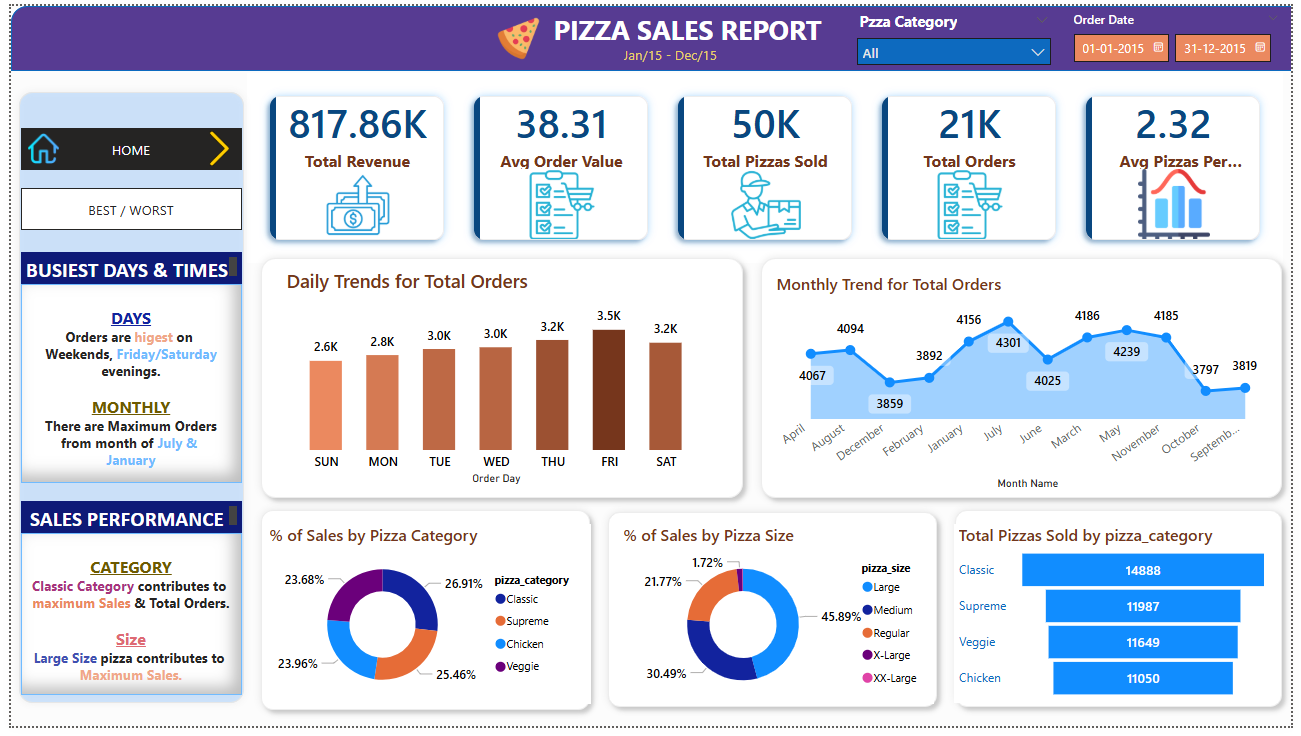

Layout of this report page (visuals, bound fields, positions):
{"tool":"powerbi","page":{"name":"HOME","canvas":[1280,720],"ordinal":0},"visuals":[{"type":"cardVisual","fields":{"Data":["pizza_sales.Total Revenue","pizza_sales.Avg Order Value","pizza_sales.Total Pizzas Sold","pizza_sales.Total Orders","pizza_sales.Avg Pizzas Per Order"]},"box":[231,62,1049,200],"z":0},{"type":"shape","box":[0,0,1482.6,65.3],"z":1000},{"type":"textbox","box":[537.7,0,319.2,57.1],"z":2000},{"type":"textbox","box":[608.5,35.4,127.9,42.6],"z":3000},{"type":"image","box":[486,7.3,42.6,49.9],"z":4000},{"type":"shape","box":[241,243,500,258],"z":5000},{"type":"columnChart","title":"Daily Trends for Total Orders","fields":{"Category":["pizza_sales.Order Day"],"Y":["pizza_sales.Total Orders"]},"box":[271,262,429,221],"z":6000},{"type":"shape","box":[741,243,539,258],"z":7000},{"type":"areaChart","title":"Monthly Trend for Total Orders","fields":{"Category":["pizza_sales.Month Name"],"Y":["CountNonNull(pizza_sales.Order Month)"]},"box":[761,267,494,221],"z":8000},{"type":"shape","box":[241,495,347,218],"z":9000},{"type":"shape","box":[588,497,347,213],"z":10000},{"type":"shape","box":[0,78,241.2,626.6],"z":11000},{"type":"shape","box":[935,495,345,215],"z":12000},{"type":"donutChart","title":"% of Sales by Pizza Category","fields":{"Category":["pizza_sales.pizza_category"],"Y":["pizza_sales.Total Revenue"]},"box":[254,518,326,180],"z":13000},{"type":"donutChart","title":"% of Sales by Pizza Size","fields":{"Y":["pizza_sales.Total Revenue"],"Category":["pizza_sales.pizza_size"]},"box":[608,518,315,180],"z":14000},{"type":"textbox","box":[10,246,221,32],"z":15000},{"type":"funnel","fields":{"Category":["pizza_sales.pizza_category"],"Y":["pizza_sales.Total Pizzas Sold"]},"box":[943,518,320,179],"z":16000},{"type":"textbox","box":[10,278,221,199],"z":17000},{"type":"textbox","box":[10,495,221,32],"z":18000},{"type":"textbox","box":[10,527,221,162],"z":19000},{"type":"slicer","fields":{"Values":["pizza_sales.pizza_category"]},"box":[836,0,214,62],"z":20000},{"type":"slicer","fields":{"Values":["pizza_sales.order_date"]},"box":[1050,0,230,78],"z":21000},{"type":"pageNavigator","box":[10,122,221,42],"z":22000},{"type":"pageNavigator","box":[10,182,221,42],"z":23000},{"type":"image","box":[186,125,45,35],"z":24000},{"type":"image","box":[17,91,31,103],"z":25000}]}

Visuals, with their boxes in screenshot pixels (x1, y1, x2, y2), scaled from the page's 1280x720 canvas onto the 1301x736 screenshot:
cardVisual - pizza_sales.Total Revenue x pizza_sales.Avg Order Value: Rect(235, 63, 1300, 268)
shape: Rect(0, 0, 1300, 67)
textbox: Rect(547, 0, 871, 58)
textbox: Rect(618, 36, 748, 80)
image: Rect(494, 7, 537, 58)
shape: Rect(245, 248, 753, 512)
"Daily Trends for Total Orders" columnChart: Rect(275, 268, 711, 494)
shape: Rect(753, 248, 1300, 512)
"Monthly Trend for Total Orders" areaChart: Rect(773, 273, 1276, 499)
shape: Rect(245, 506, 598, 729)
shape: Rect(598, 508, 950, 726)
shape: Rect(0, 80, 245, 720)
shape: Rect(950, 506, 1300, 726)
"% of Sales by Pizza Category" donutChart: Rect(258, 530, 590, 714)
"% of Sales by Pizza Size" donutChart: Rect(618, 530, 938, 714)
textbox: Rect(10, 251, 235, 284)
funnel - pizza_sales.pizza_category x pizza_sales.Total Pizzas Sold: Rect(958, 530, 1284, 712)
textbox: Rect(10, 284, 235, 488)
textbox: Rect(10, 506, 235, 539)
textbox: Rect(10, 539, 235, 704)
slicer - pizza_sales.pizza_category: Rect(850, 0, 1067, 63)
slicer - pizza_sales.order_date: Rect(1067, 0, 1300, 80)
pageNavigator: Rect(10, 125, 235, 168)
pageNavigator: Rect(10, 186, 235, 229)
image: Rect(189, 128, 235, 164)
image: Rect(17, 93, 49, 198)
